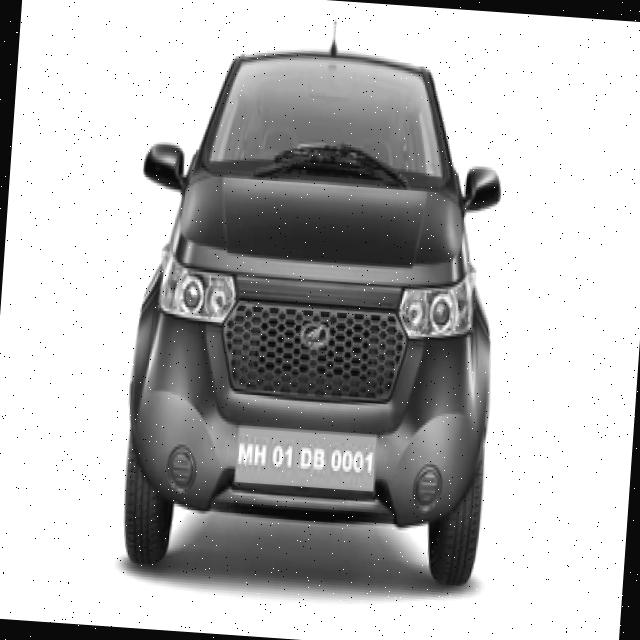Autre: (232, 426, 377, 494)
